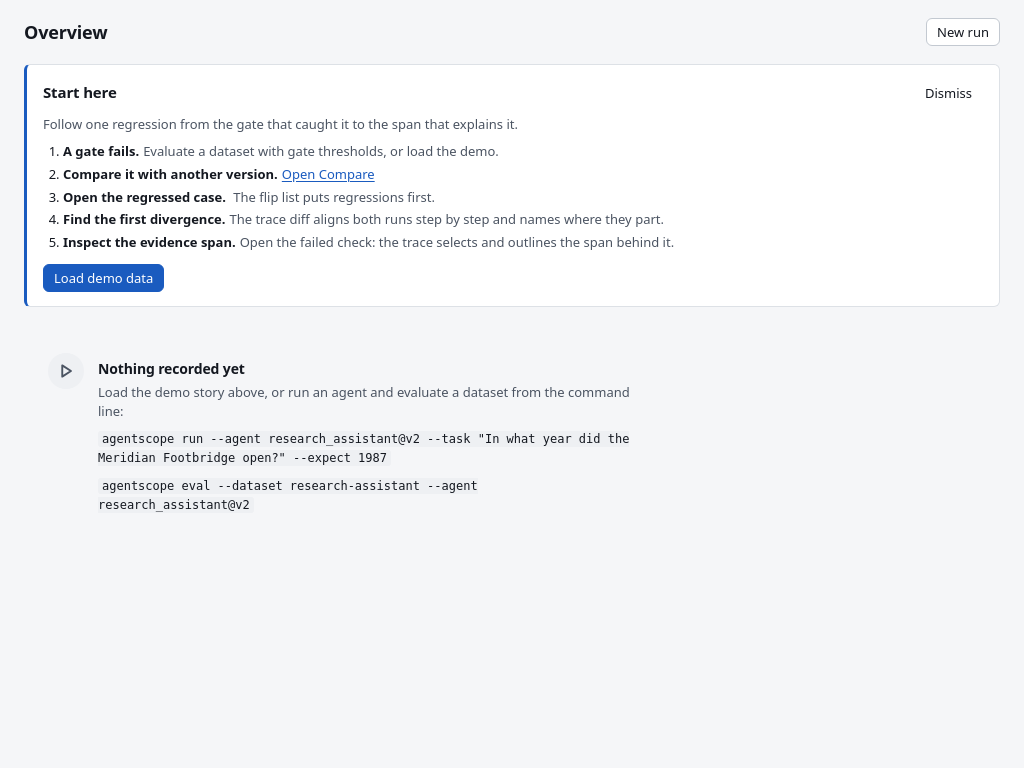
Scenario: OverviewView › walks a first run through the demo story and seeds it on request
Expected: the element with class "start" shows "A gate fails", [63,142,139,160]
Expected: the element with class "start" shows "Find the first divergence", [63,210,226,228]
Click the button "Load demo data".
click(104, 278)  # box [43,264,164,292]
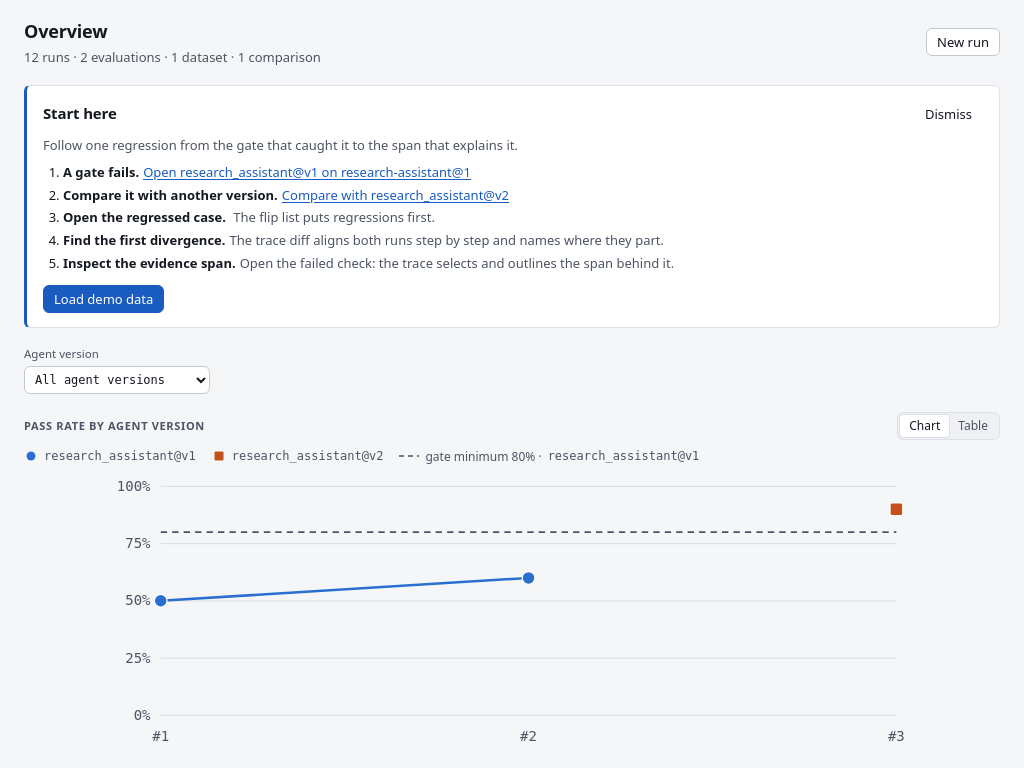
Now the text "Nothing recorded yet" is gone
